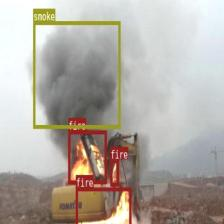fire: (75, 186, 130, 224), (68, 130, 106, 183), (110, 159, 118, 185)
smoke: (33, 21, 120, 128)
